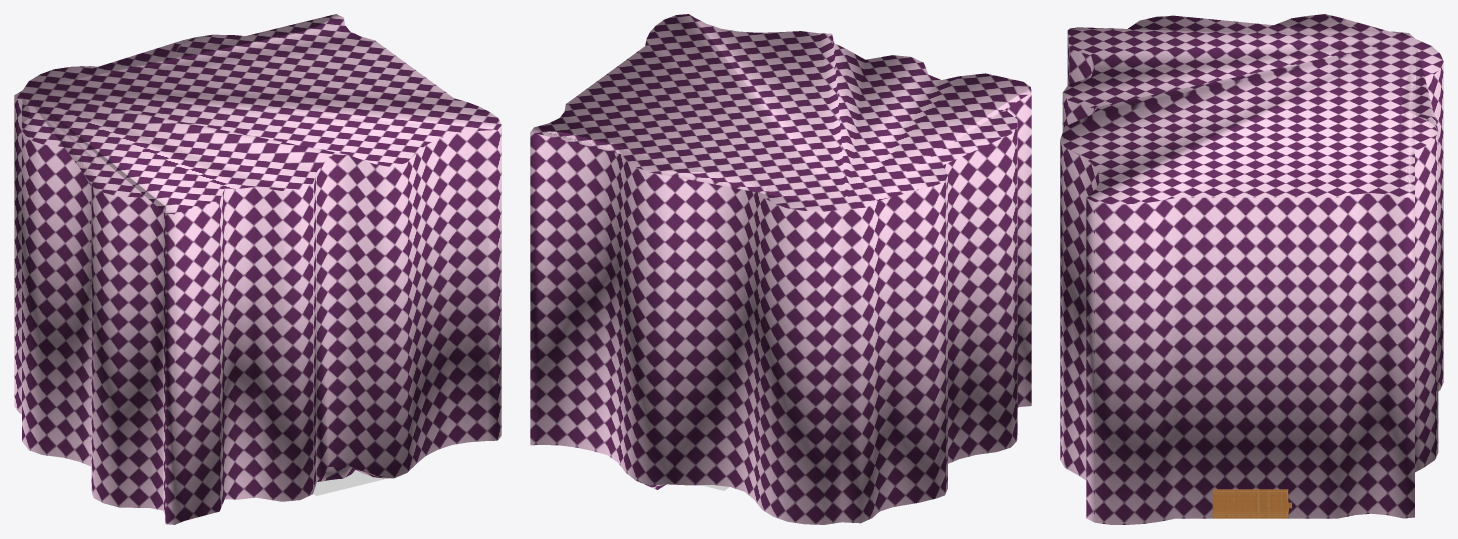
The model's file is SenceTwo.fbx.
3 renders of one model, left to right at view 1: azimuth 30°, elevation 25°; view 2: azimuth 150°, elevation 25°; view 3: azimuth 270°, elevation 25°, orthographic. The views are drawn at different scales.
Parts seen in each view (by area): view 1: PLANE, SEA; view 2: PLANE; view 3: PLANE, CookieFloor.
Part boxes in pixels (x1,y1,x2,y2): PLANE: (14, 14, 501, 524); SEA: (313, 470, 387, 495); PLANE: (530, 14, 1031, 524); PLANE: (1060, 14, 1443, 524); CookieFloor: (1212, 489, 1291, 518).
Bounding box in the file's own units: 27447 × 24212 × 23586.
